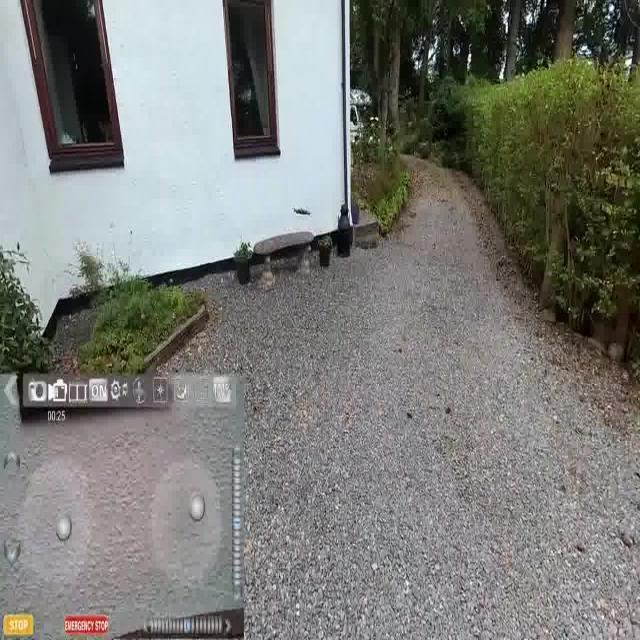drones: (291, 202, 316, 223)
